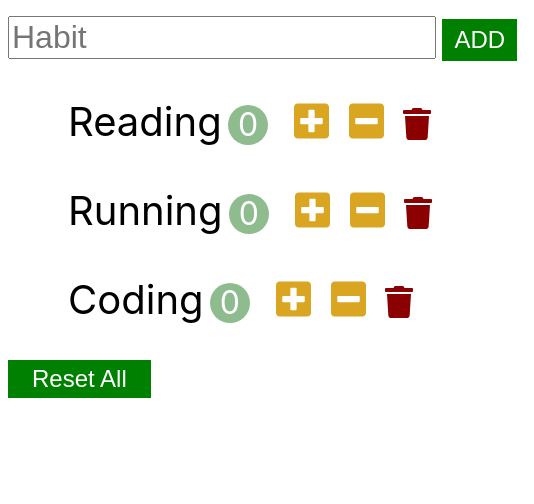
Test case: Habit Tracker › adds new habbit at the end
This screenshot has width=534, height=504.
Type "New Habit" into the field with placeholder "Habit" at (222, 38), box [8,16,436,59]
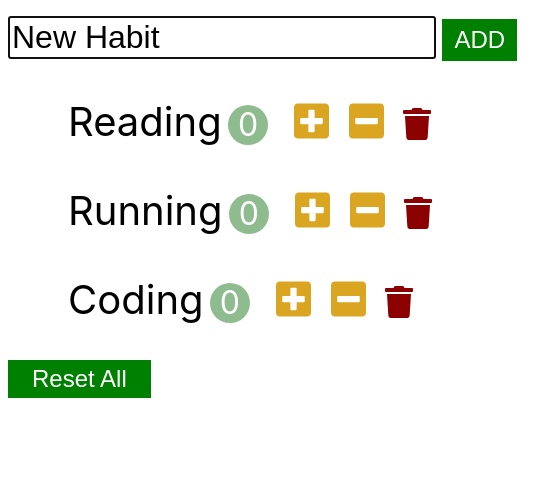
Click the button "ADD" at (480, 40), box [442,19,517,61]
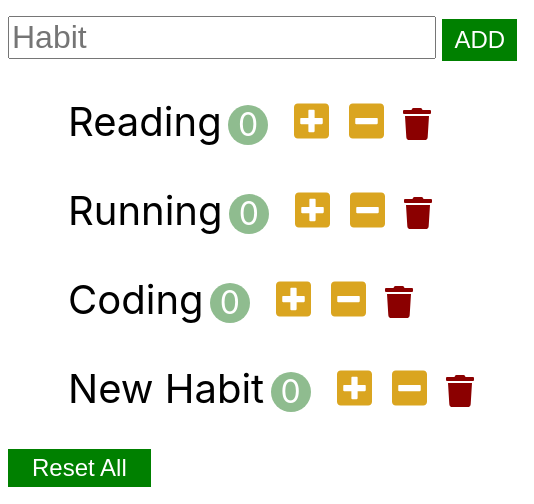
Check: the text with test id "habit-name" reads "New Habit", box [68,364,264,413]
Check: the text with test id "habit-count" next to "New Habit" reads "0", box [271,372,311,412]
